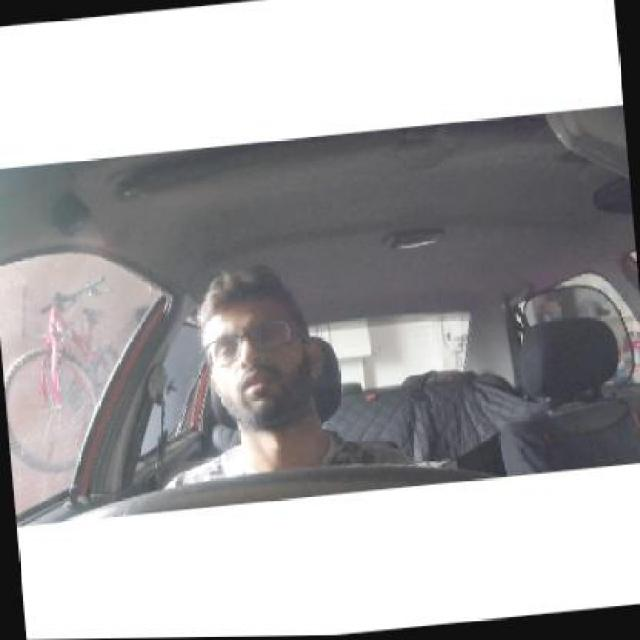drowsy: (193, 261, 326, 463)
